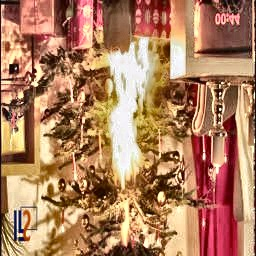fire: (99, 39, 177, 197)
